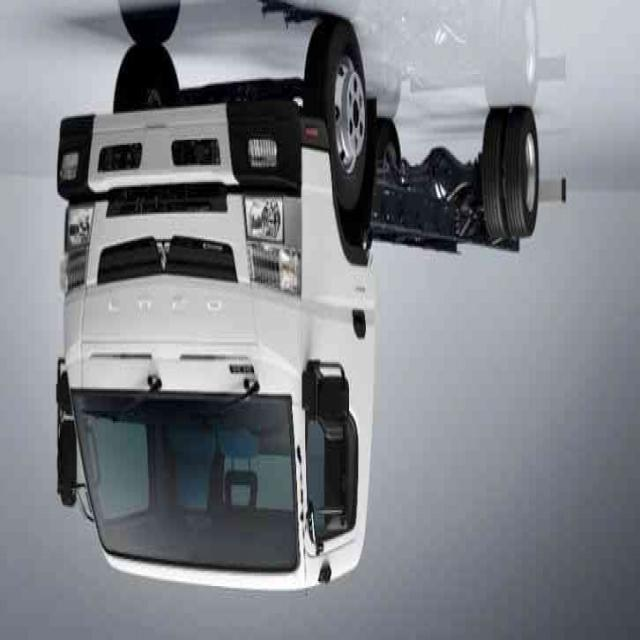truck: (58, 15, 565, 595)
